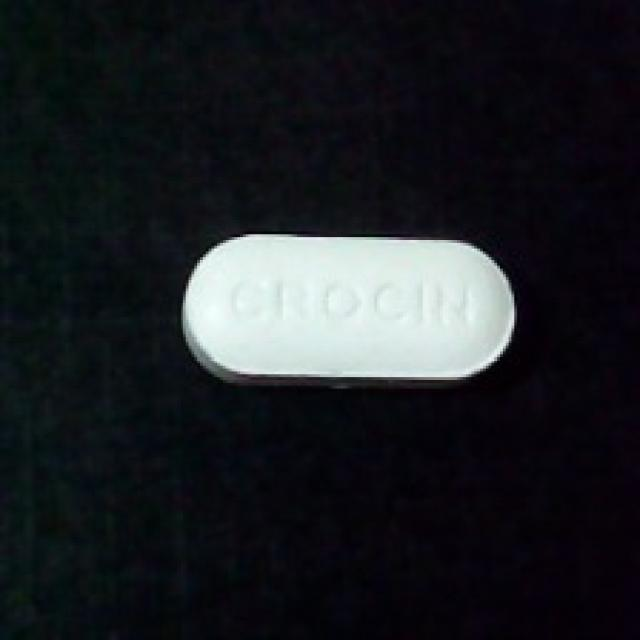no-defect: (160, 220, 523, 391)
